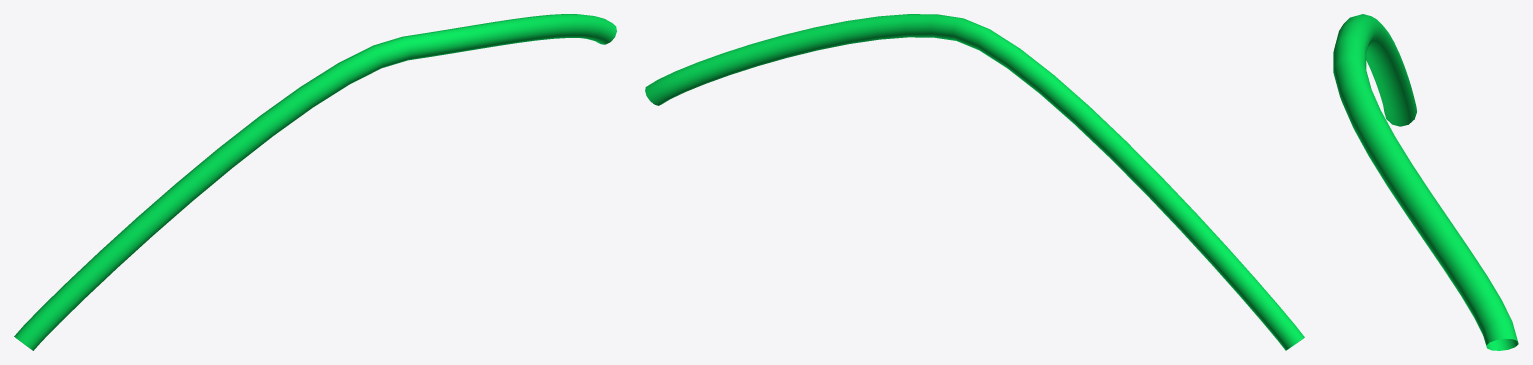
File: first_straw_branch.fbx
The picture shows the model from 3 angles, left to right: view 1: azimuth 30°, elevation 25°; view 2: azimuth 150°, elevation 25°; view 3: azimuth 270°, elevation 25°; orthographic projection. The views are drawn at different scales.
Visible parts, largest first — view 1: 贝塞尔曲线.001; view 2: 贝塞尔曲线.001; view 3: 贝塞尔曲线.001.
Boxes of the visible parts, x1,y1,x2,y2 form: 贝塞尔曲线.001: (14, 14, 616, 350); 贝塞尔曲线.001: (645, 14, 1304, 350); 贝塞尔曲线.001: (1333, 14, 1518, 350).
Bounding box in the file's own units: 843 × 303 × 157.
